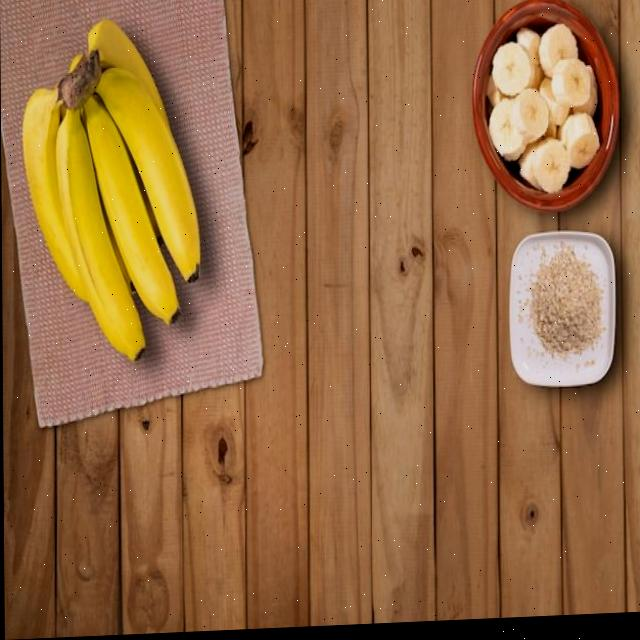banana: (19, 9, 208, 375)
